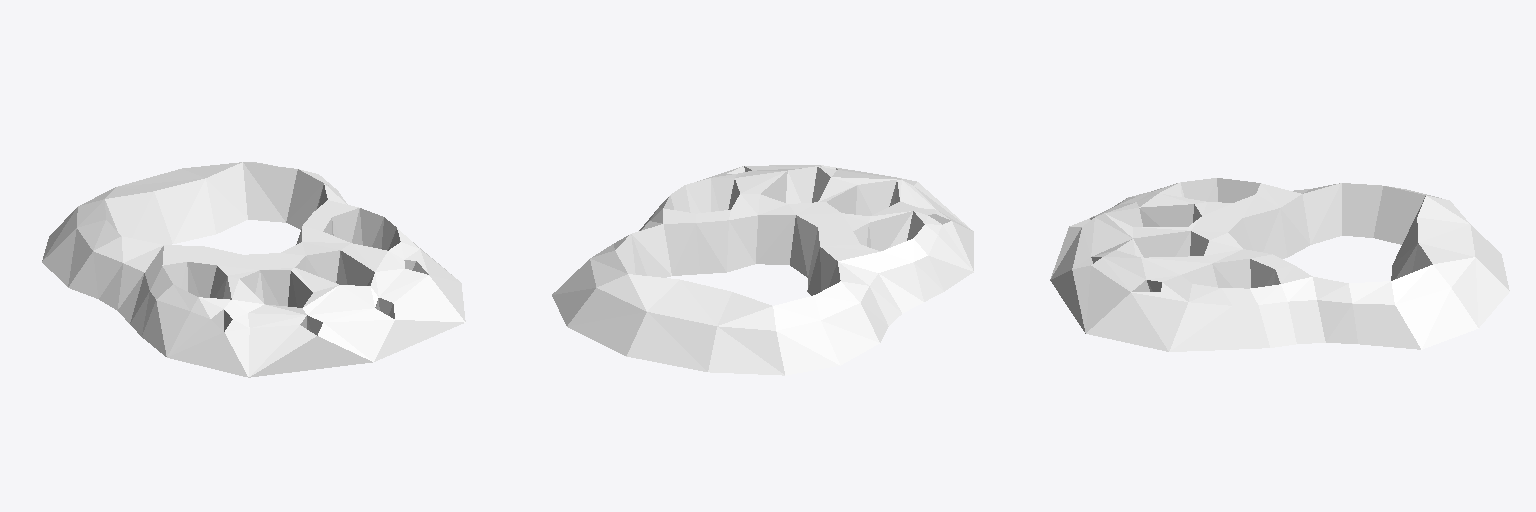
The model's file is footprint.obj.
3 views of the same model, side by side, from view 1: azimuth 30°, elevation 25°; view 2: azimuth 150°, elevation 25°; view 3: azimuth 270°, elevation 25° (orthographic).
Visible parts, largest first — view 1: World_Expansion02_doodads_generic_catwolftracks_catwolf_footprin; view 2: World_Expansion02_doodads_generic_catwolftracks_catwolf_footprin; view 3: World_Expansion02_doodads_generic_catwolftracks_catwolf_footprin.
Boxes of the visible parts, x1,y1,x2,y2 form: World_Expansion02_doodads_generic_catwolftracks_catwolf_footprin: [42, 162, 465, 377]; World_Expansion02_doodads_generic_catwolftracks_catwolf_footprin: [552, 165, 973, 375]; World_Expansion02_doodads_generic_catwolftracks_catwolf_footprin: [1050, 178, 1509, 351].
Size of the model in its own units: 1.97 by 0.2872 by 2.62.